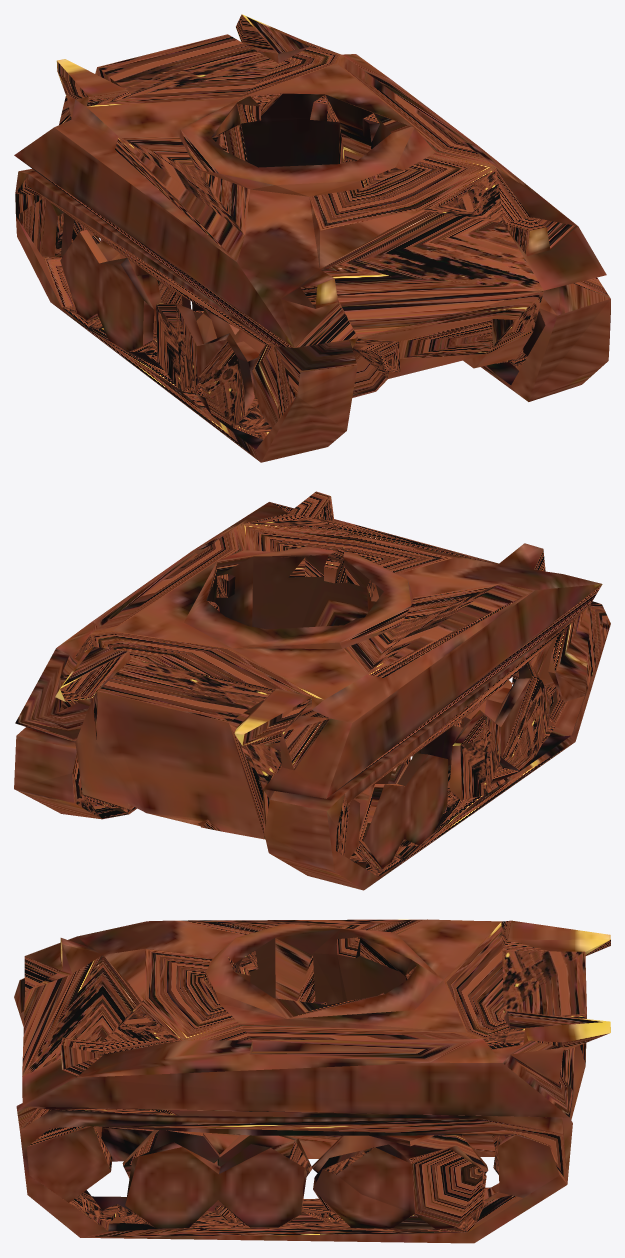
File: hull-s6.glb
3 views of the same model, one above another, from view 1: azimuth 30°, elevation 25°; view 2: azimuth 150°, elevation 25°; view 3: azimuth 270°, elevation 25° (orthographic). The views are drawn at different scales.
Visible parts, largest first — view 1: 9ea61622-a94c-4b6b-8ea4-258bbf757e43_texturing.obj; view 2: 9ea61622-a94c-4b6b-8ea4-258bbf757e43_texturing.obj; view 3: 9ea61622-a94c-4b6b-8ea4-258bbf757e43_texturing.obj.
Part boxes in pixels (bbox=[...]): 9ea61622-a94c-4b6b-8ea4-258bbf757e43_texturing.obj: bbox=[14, 14, 610, 462]; 9ea61622-a94c-4b6b-8ea4-258bbf757e43_texturing.obj: bbox=[14, 491, 610, 890]; 9ea61622-a94c-4b6b-8ea4-258bbf757e43_texturing.obj: bbox=[14, 919, 610, 1243].
Bounding box in the file's own units: 1.2 × 0.7665 × 1.97.
Materials: 1 (1 with a texture image).
